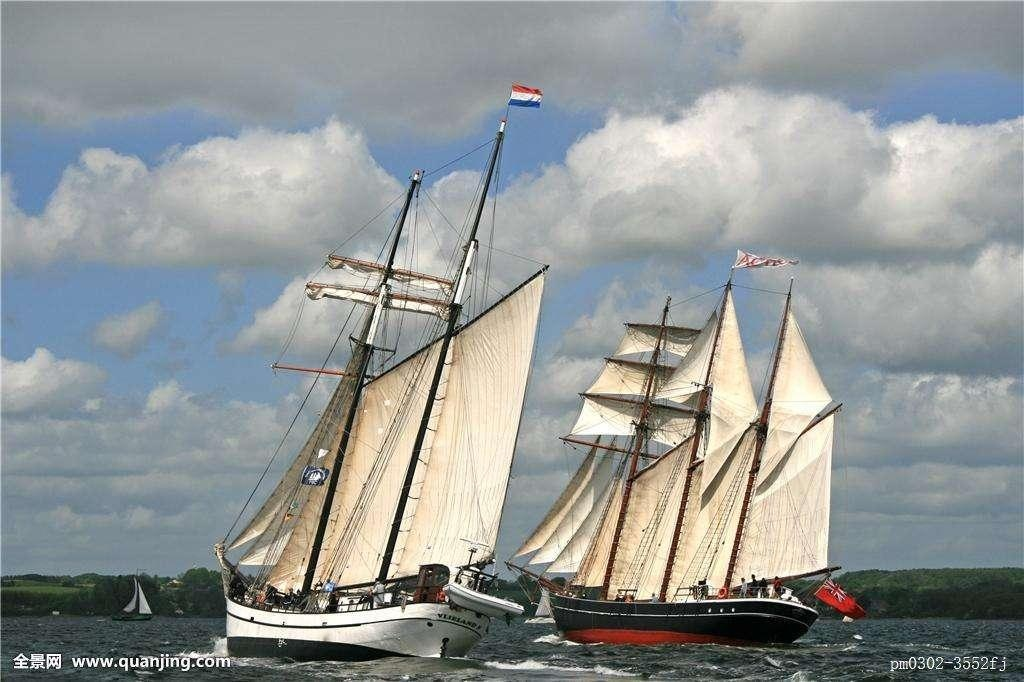fanchuan: (207, 81, 590, 665), (538, 249, 867, 652), (114, 573, 157, 628)
